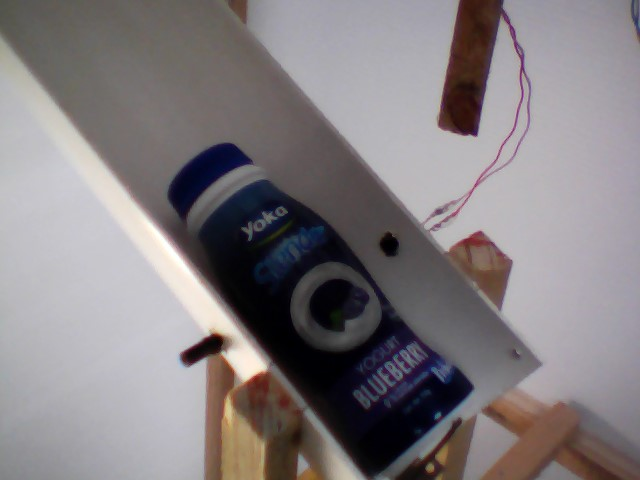plastico: (161, 133, 492, 480)
